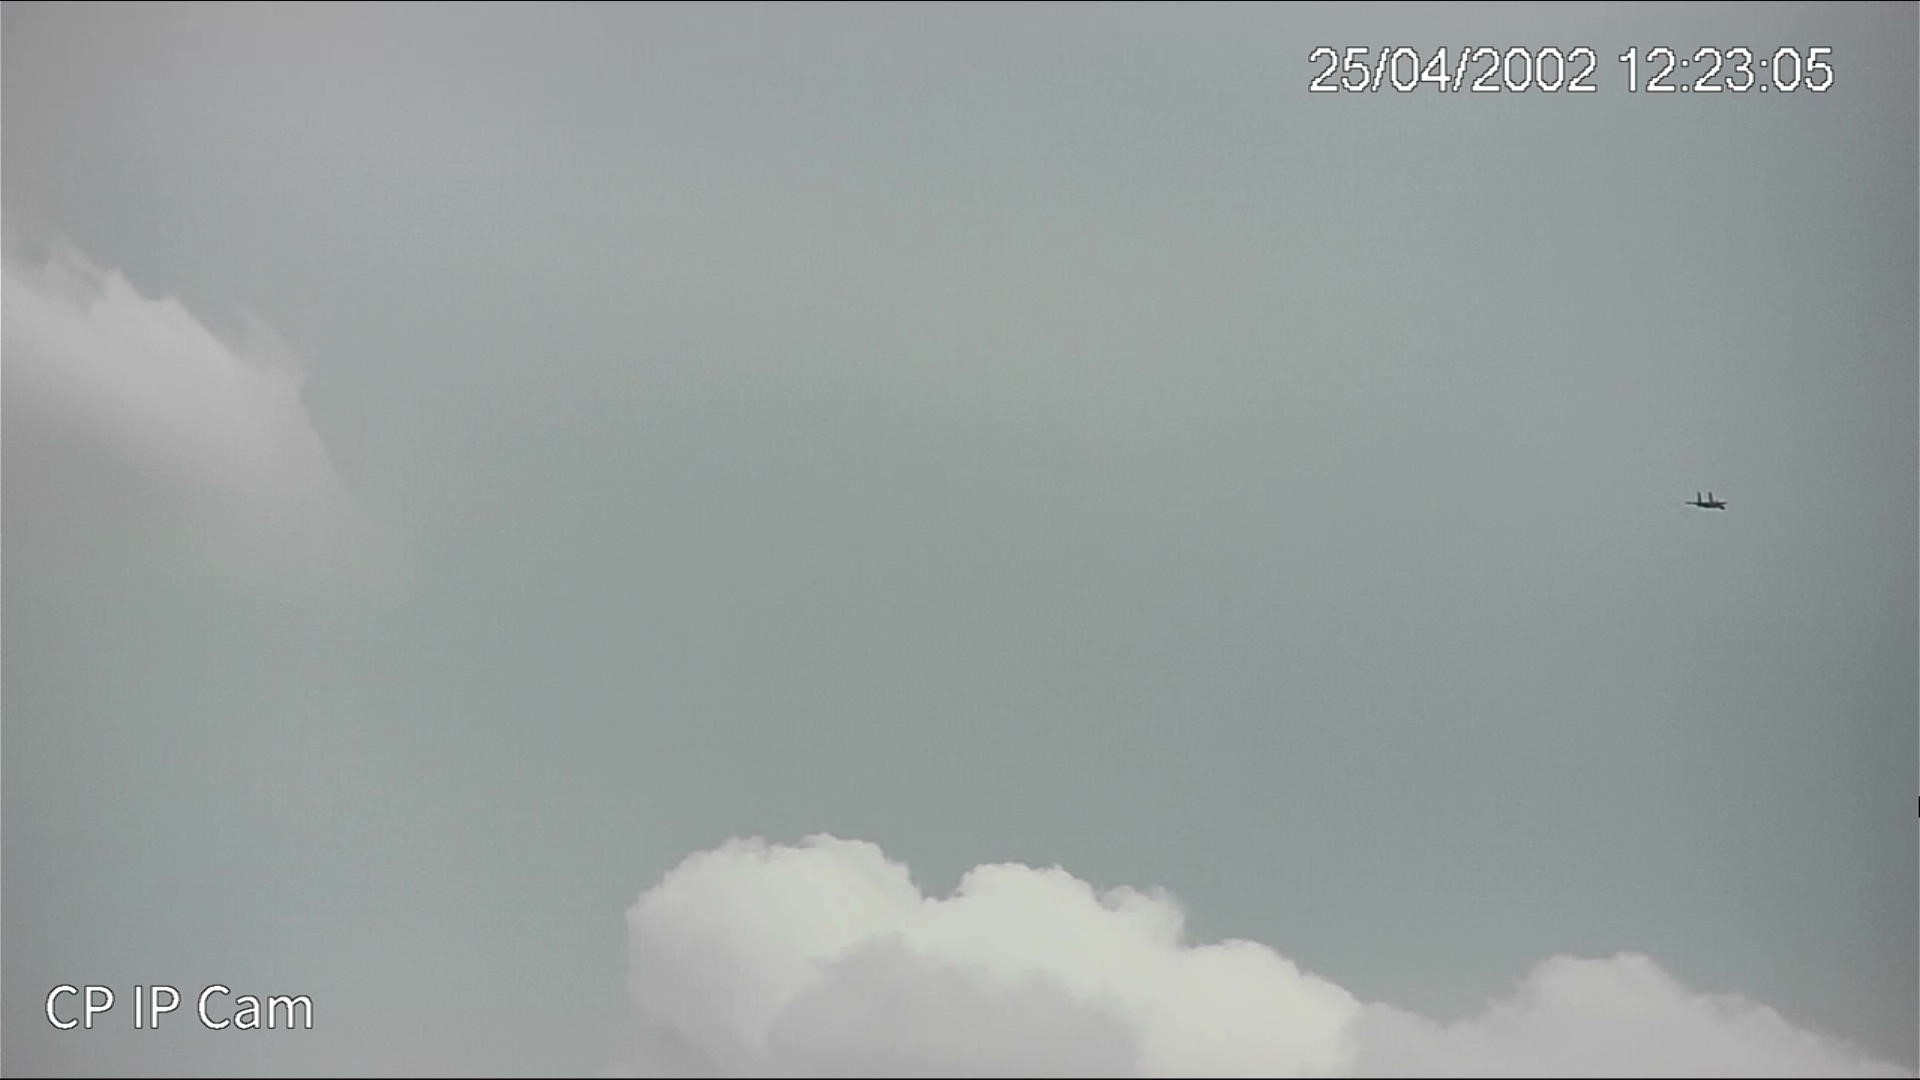SU_30: (1687, 491, 1727, 512)
